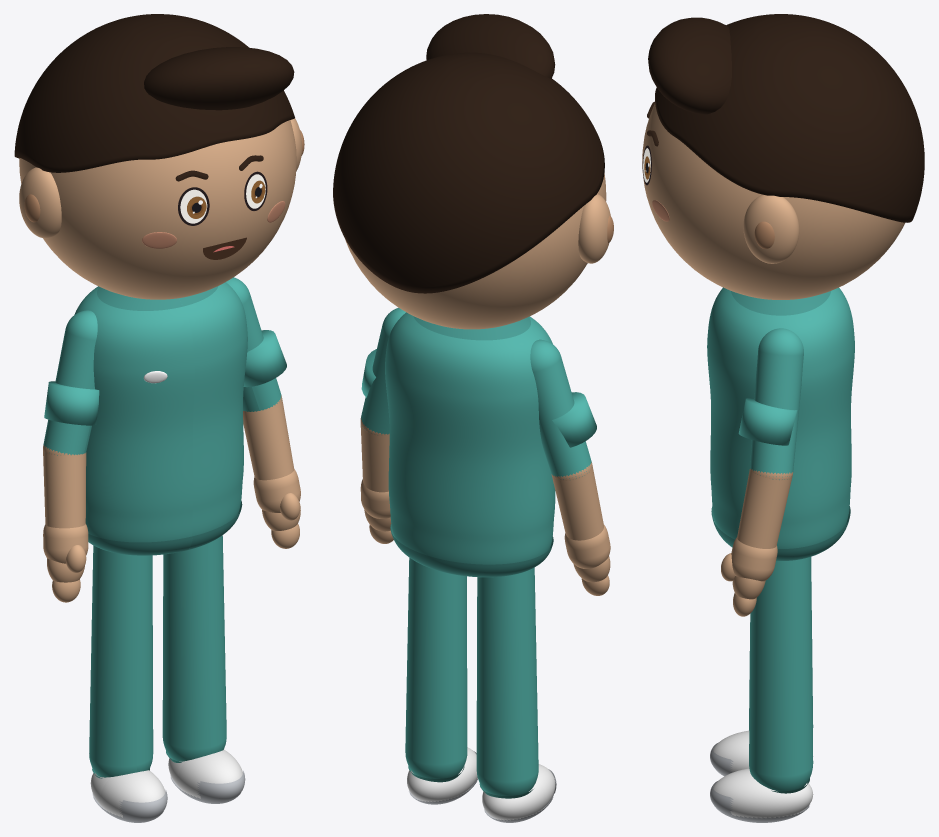
Rendered from verpleger.glb.
The picture shows the model from 3 angles, left to right: view 1: azimuth 30°, elevation 25°; view 2: azimuth 150°, elevation 25°; view 3: azimuth 270°, elevation 25°; orthographic projection. The views are drawn at different scales.
Visible parts, largest first — view 1: verpleger_romp, verpleger_hoofd, verpleger_haar, verpleger_been_R, verpleger_been_L, verpleger_haar_kuif, verpleger_bovenarm_R, verpleger_onderarm_R, verpleger_onderarm_L, verpleger_schoen_R, verpleger_schoen_L, verpleger_oor_R (+11 smaller); view 2: verpleger_haar, verpleger_romp, verpleger_been_R, verpleger_been_L, verpleger_hoofd, verpleger_haar_kuif, verpleger_bovenarm_R, verpleger_onderarm_R, verpleger_bovenarm_L, verpleger_romp_boord, verpleger_schoen_R, verpleger_oor_R (+6 smaller); view 3: verpleger_haar, verpleger_romp, verpleger_hoofd, verpleger_been_L, verpleger_haar_kuif, verpleger_bovenarm_L, verpleger_onderarm_L, verpleger_schoen_L, verpleger_oor_L, verpleger_mouwzoom_L, verpleger_manchet_L, verpleger_romp_halsboord (+3 smaller).
Part boxes in pixels (left/top/right/bottom): verpleger_romp: left=74, top=282, right=247, bottom=542; verpleger_hoofd: left=19, top=120, right=296, bottom=299; verpleger_haar: left=14, top=14, right=294, bottom=172; verpleger_been_R: left=89, top=545, right=153, bottom=777; verpleger_been_L: left=162, top=535, right=226, bottom=761; verpleger_haar_kuif: left=144, top=47, right=294, bottom=110; verpleger_bovenarm_R: left=43, top=310, right=97, bottom=455; verpleger_onderarm_R: left=43, top=449, right=86, bottom=528; verpleger_onderarm_L: left=243, top=398, right=294, bottom=480; verpleger_schoen_R: left=90, top=770, right=165, bottom=817; verpleger_schoen_L: left=168, top=749, right=242, bottom=798; verpleger_oor_R: left=19, top=167, right=61, bottom=238; verpleger_haar: left=333, top=52, right=604, bottom=293; verpleger_romp: left=385, top=312, right=555, bottom=564; verpleger_been_R: left=476, top=567, right=538, bottom=795; verpleger_been_L: left=405, top=558, right=467, bottom=778; verpleger_hoofd: left=345, top=173, right=606, bottom=329; verpleger_haar_kuif: left=426, top=14, right=555, bottom=78; verpleger_bovenarm_R: left=530, top=339, right=591, bottom=479; verpleger_onderarm_R: left=551, top=465, right=603, bottom=540; verpleger_bovenarm_L: left=361, top=307, right=405, bottom=435; verpleger_romp_boord: left=390, top=524, right=553, bottom=577; verpleger_schoen_R: left=482, top=764, right=555, bottom=820; verpleger_oor_R: left=578, top=194, right=610, bottom=263; verpleger_haar: left=655, top=14, right=924, bottom=222; verpleger_romp: left=707, top=287, right=854, bottom=548; verpleger_hoofd: left=642, top=103, right=904, bottom=299; verpleger_been_L: left=749, top=557, right=813, bottom=791; verpleger_haar_kuif: left=648, top=17, right=731, bottom=114; verpleger_bovenarm_L: left=750, top=328, right=803, bottom=479; verpleger_onderarm_L: left=737, top=469, right=792, bottom=548; verpleger_schoen_L: left=713, top=768, right=813, bottom=818; verpleger_oor_L: left=743, top=194, right=799, bottom=263; verpleger_mouwzoom_L: left=738, top=397, right=797, bottom=445; verpleger_manchet_L: left=731, top=537, right=777, bottom=581; verpleger_romp_halsboord: left=731, top=291, right=830, bottom=315.
Bounding box in the file's own units: 0.6749 × 1.82 × 0.5983.
